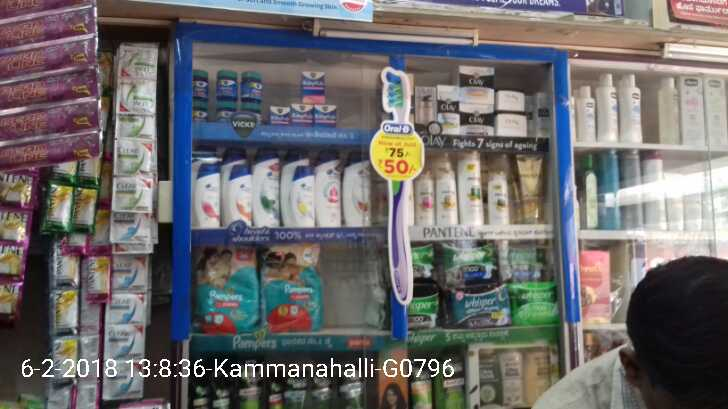beauty: (341, 151, 375, 229), (515, 150, 551, 223), (313, 151, 345, 225), (458, 147, 489, 223), (251, 150, 281, 222), (194, 162, 223, 224), (286, 166, 313, 224), (459, 66, 496, 105), (438, 81, 465, 133), (228, 166, 251, 226), (487, 175, 512, 226), (436, 169, 459, 224), (415, 172, 435, 224), (495, 112, 531, 139), (461, 107, 492, 134), (499, 88, 525, 111)
pharmacy: (260, 247, 322, 328), (201, 245, 256, 330), (442, 240, 503, 284), (450, 283, 507, 330), (508, 280, 562, 322), (504, 243, 553, 281), (408, 284, 438, 331), (301, 70, 327, 103), (216, 67, 238, 102), (241, 72, 262, 102), (314, 102, 338, 126), (290, 103, 314, 126), (195, 69, 210, 97), (273, 108, 292, 125), (215, 101, 233, 118)
